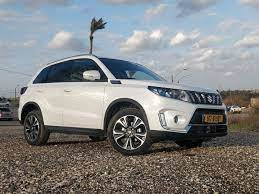licence: (201, 113, 224, 123)
